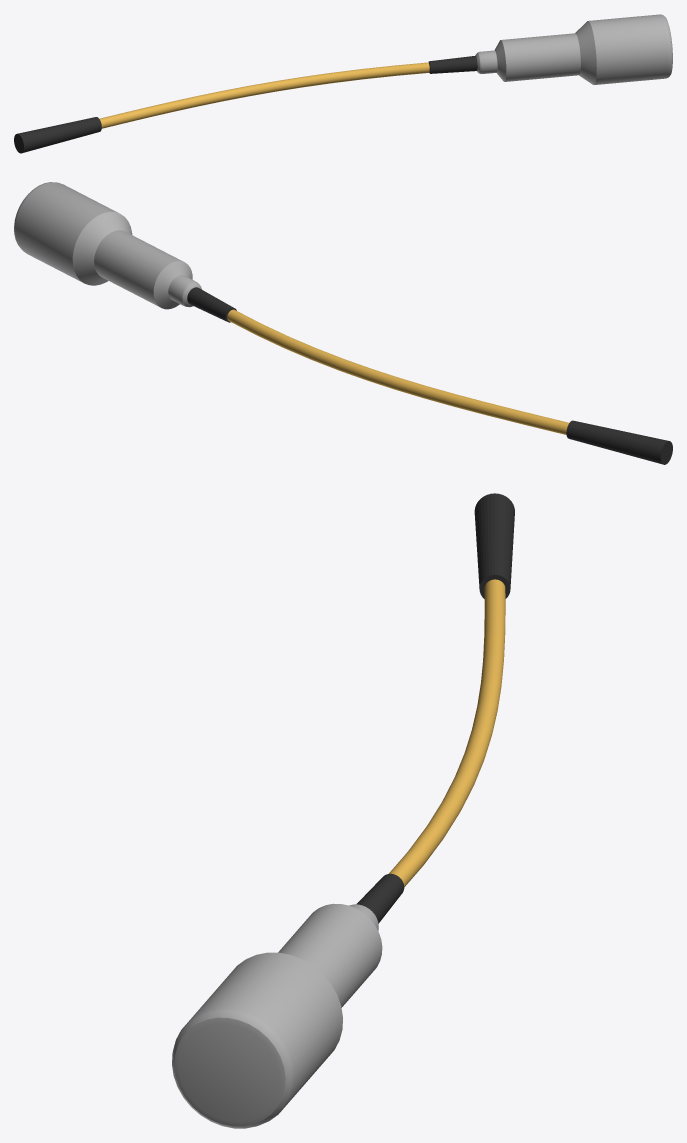
File: fibra test.fbx
The picture shows the model from 3 angles, top to bottom: view 1: azimuth 30°, elevation 25°; view 2: azimuth 150°, elevation 25°; view 3: azimuth 270°, elevation 25°; orthographic projection. The views are drawn at different scales.
Parts seen in each view (by area): view 1: Optical fibre.002; view 2: Optical fibre.002; view 3: Optical fibre.002.
Boxes of the visible parts, x1,y1,x2,y2 form: Optical fibre.002: (14, 14, 672, 153); Optical fibre.002: (14, 182, 672, 464); Optical fibre.002: (172, 493, 514, 1128).
Size of the model in its own units: 1.69 by 0.1632 by 0.4263.
